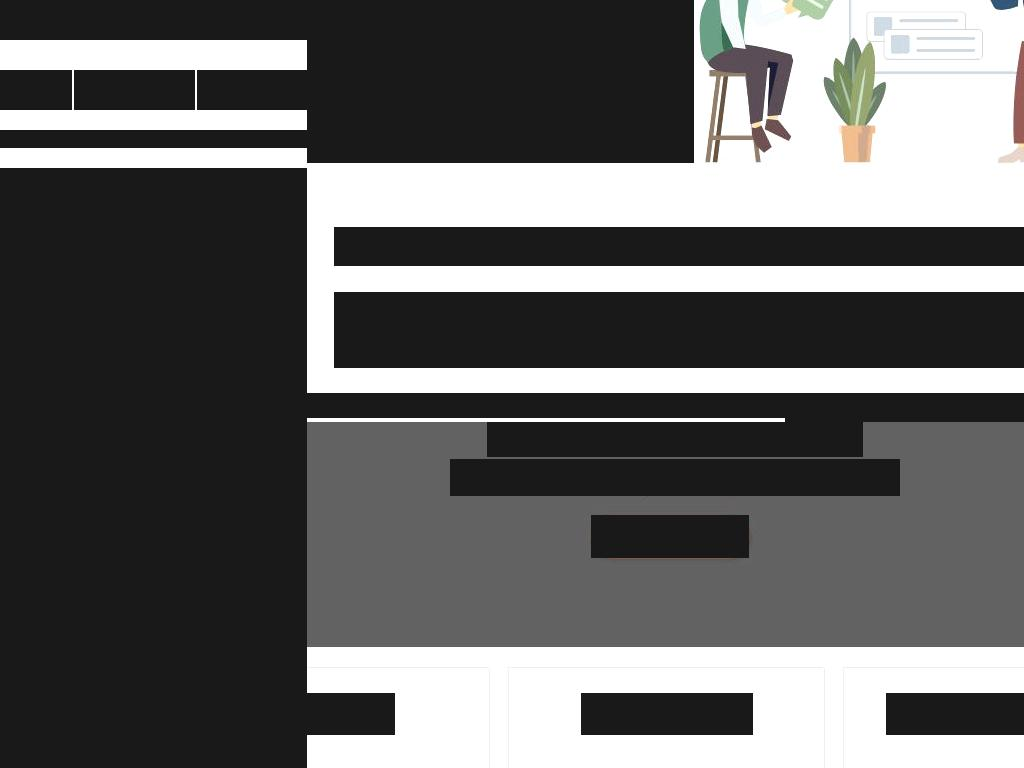button: (0, 168, 307, 422), (591, 515, 749, 558), (74, 70, 195, 110), (197, 70, 307, 110), (0, 70, 72, 110)
heading: (334, 227, 1024, 266), (307, 393, 1024, 418)
image: (307, 0, 1024, 163), (0, 422, 307, 768), (0, 168, 307, 422), (694, 0, 1024, 169), (487, 422, 863, 457), (581, 693, 753, 735), (886, 693, 1024, 735), (307, 693, 395, 735)
text: (334, 292, 1024, 368), (307, 45, 646, 113), (450, 459, 900, 496), (307, 20, 646, 63), (0, 130, 307, 148), (422, 45, 554, 63)
